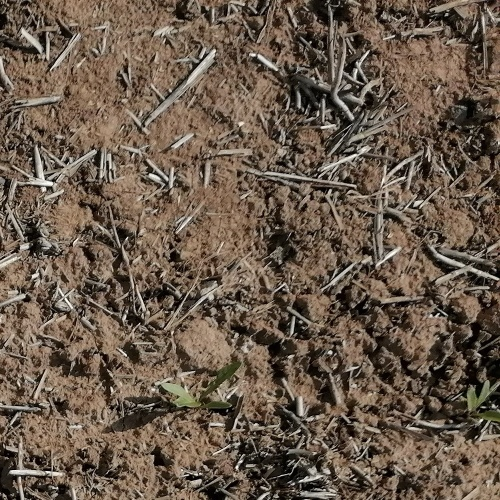beet: (163, 362, 243, 409), (461, 378, 500, 427)
